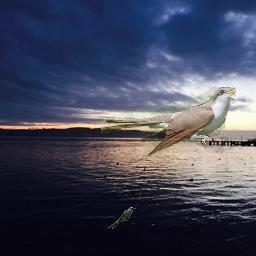Cuckoo: (101, 87, 236, 156), (108, 207, 136, 229)
